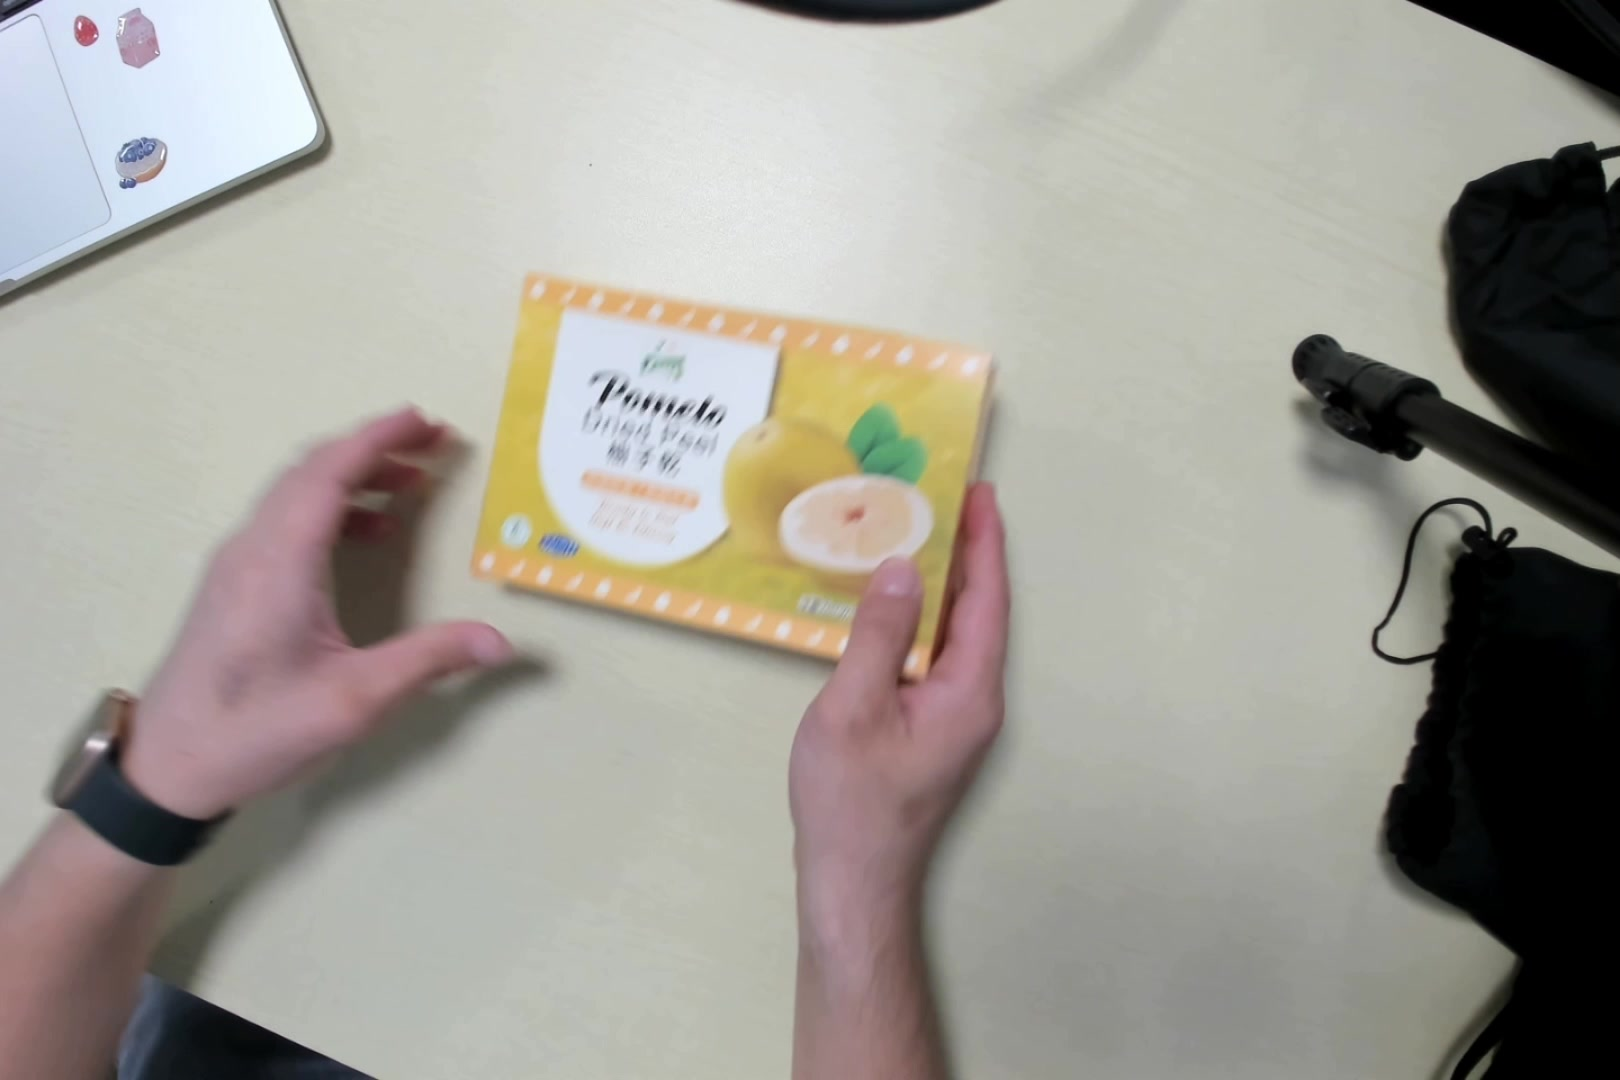DriedVegetables_100-199g_NonHalal_NonHealthy: (485, 275, 988, 676)
